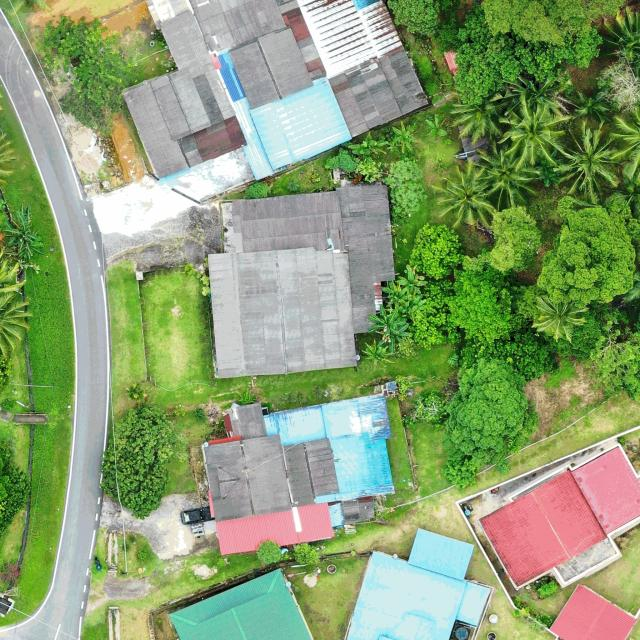0: (548, 120, 626, 202), (498, 96, 570, 170), (430, 161, 501, 230), (472, 141, 543, 208), (449, 90, 510, 144), (532, 290, 591, 344), (385, 0, 454, 36), (607, 107, 640, 169)
banana_tree2: (3, 202, 44, 261), (378, 317, 413, 352), (367, 304, 406, 335), (348, 134, 388, 164), (362, 338, 395, 367), (398, 265, 428, 295), (398, 287, 427, 316), (392, 121, 418, 153), (381, 280, 408, 310), (424, 114, 447, 141)
tree: (538, 198, 640, 307), (37, 12, 127, 131), (100, 403, 188, 519), (444, 357, 530, 460), (446, 254, 526, 348), (446, 331, 556, 385), (581, 320, 640, 399), (486, 206, 544, 274), (407, 279, 461, 351), (409, 222, 462, 280), (292, 542, 321, 570), (255, 538, 282, 564)
